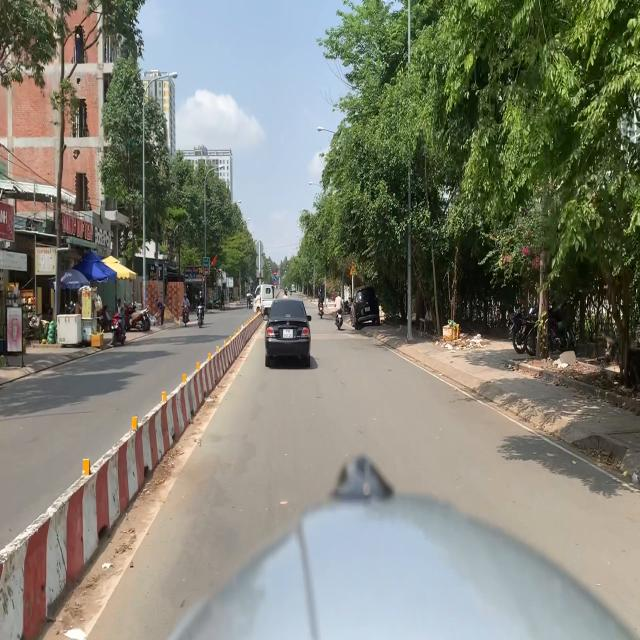Cam nguoc chieu: (273, 270, 277, 276)
Hieu lenh: (273, 276, 277, 281)
